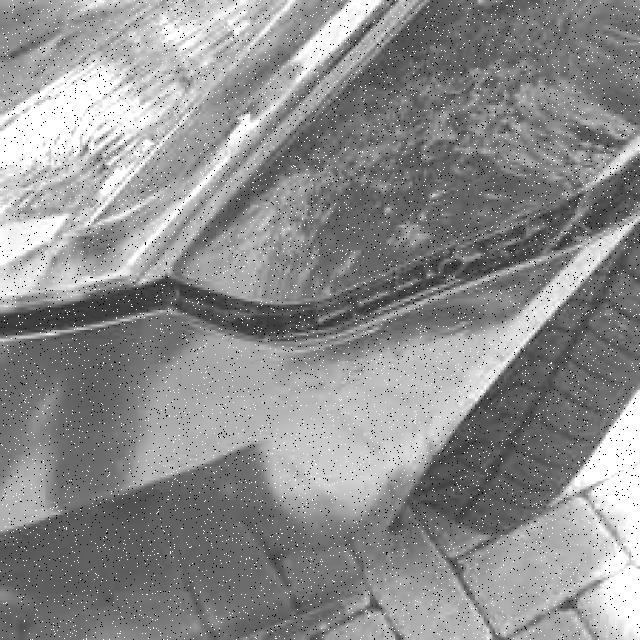car damage: (3, 138, 639, 352)
